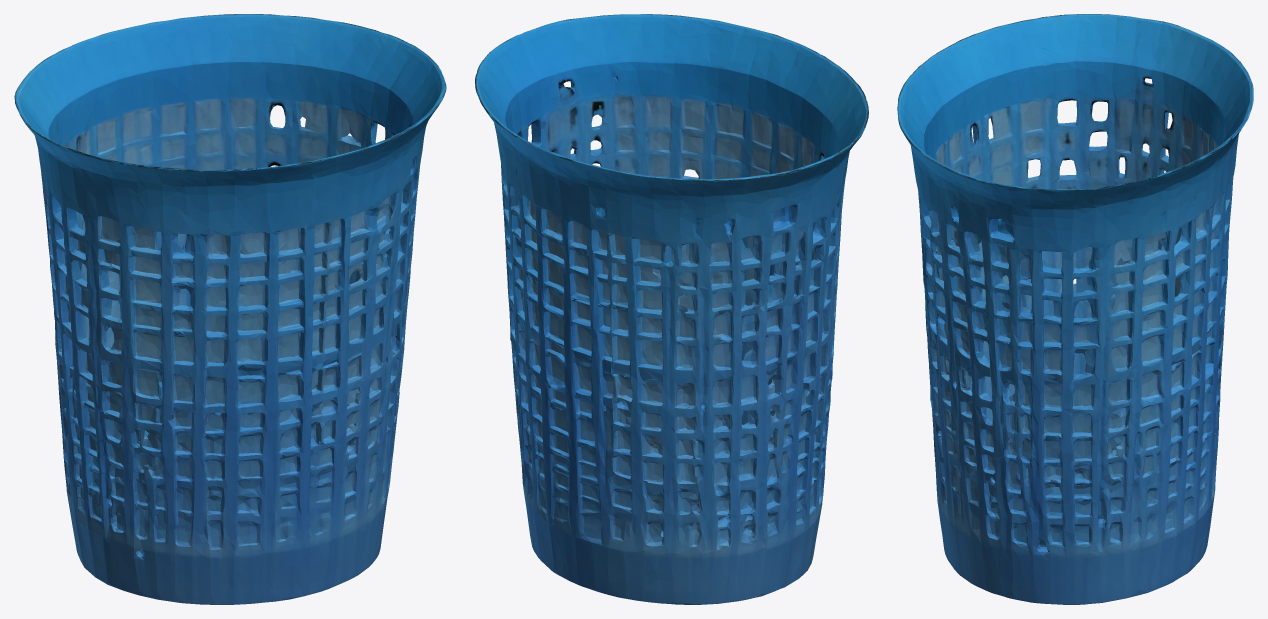
Rendered from trashbin.glb.
3 views of the same model, side by side, from view 1: azimuth 30°, elevation 25°; view 2: azimuth 150°, elevation 25°; view 3: azimuth 270°, elevation 25° (orthographic). The views are drawn at different scales.
Parts seen in each view (by area): view 1: world; view 2: world; view 3: world.
Boxes of the visible parts, left/top/right/bottom form: world: left=14, top=14, right=446, bottom=604; world: left=475, top=14, right=868, bottom=604; world: left=897, top=14, right=1253, bottom=604.
Size of the model in its own units: 0.8559 by 1 by 0.7316.
Materials: 1 (1 with a texture image).
